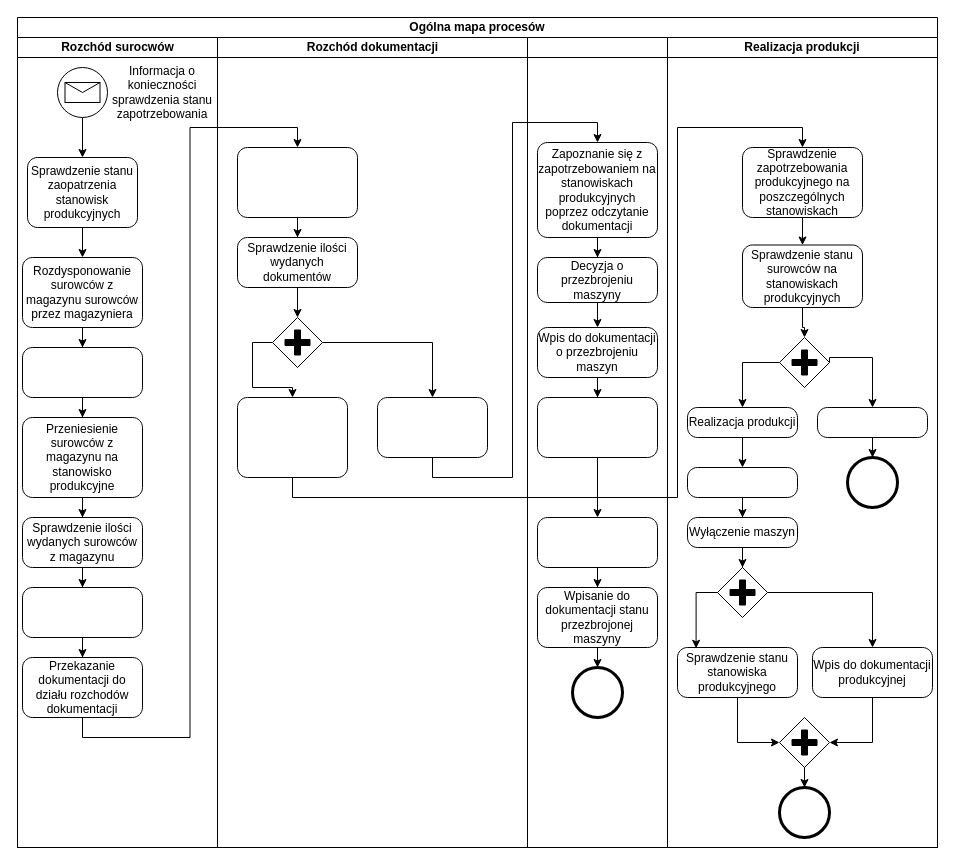
This 955x865 diagram has some shape labels left out. Here are the shapes that lost their labels. From the top down, the box of each, then its label:
(236, 146, 358, 218): Sporządzenie dokumentacji przez biuro prezesa przedsiębiorstwa
(22, 346, 142, 398): Podział ilości surowców na każde stanowisko
(236, 396, 348, 478): Rozdysponowanie dokumentacji halę produkcyjną do stanowisk produkcyjnych
(376, 396, 488, 458): Rozdysponowanie dokumentacji do magazynu
(536, 396, 658, 458): Przezbrojenie maszyny na stanowisku produkcyjnym
(526, 36, 668, 848): Przezbrajanie maszyn
(816, 406, 928, 438): Wpis do dokumentacji
(686, 466, 798, 498): Zakończenie produkcji
(536, 516, 658, 568): Sprawdzenie stanu przezbrojonej maszyny
(22, 586, 142, 638): Zapisanie ilości wydanych surowców z magazynu
